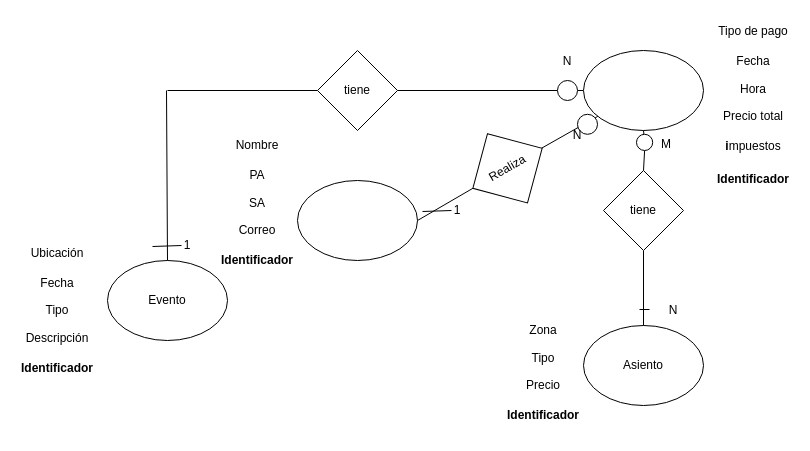
This 810x451 diagram has some shape labels left out. The box of each missing label's shape, as (x1, y1, x2, y2) in pixels:
Compra: (582, 50, 704, 130)
Persona: (296, 180, 418, 260)
